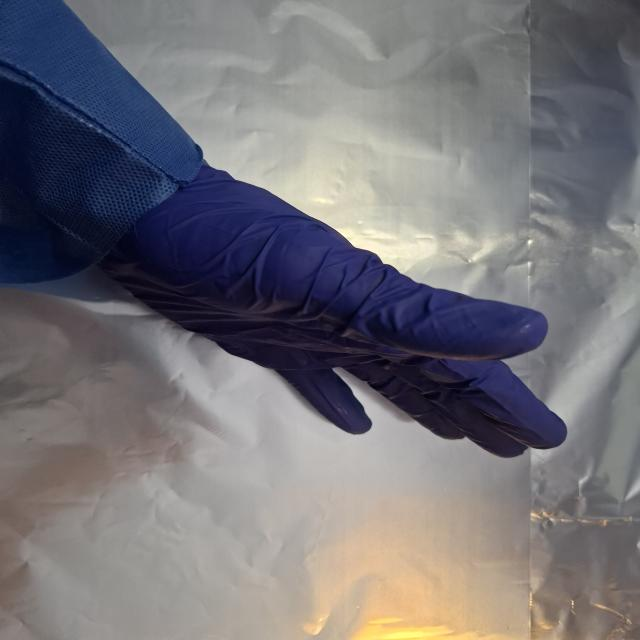glove_on: (95, 164, 571, 461)
